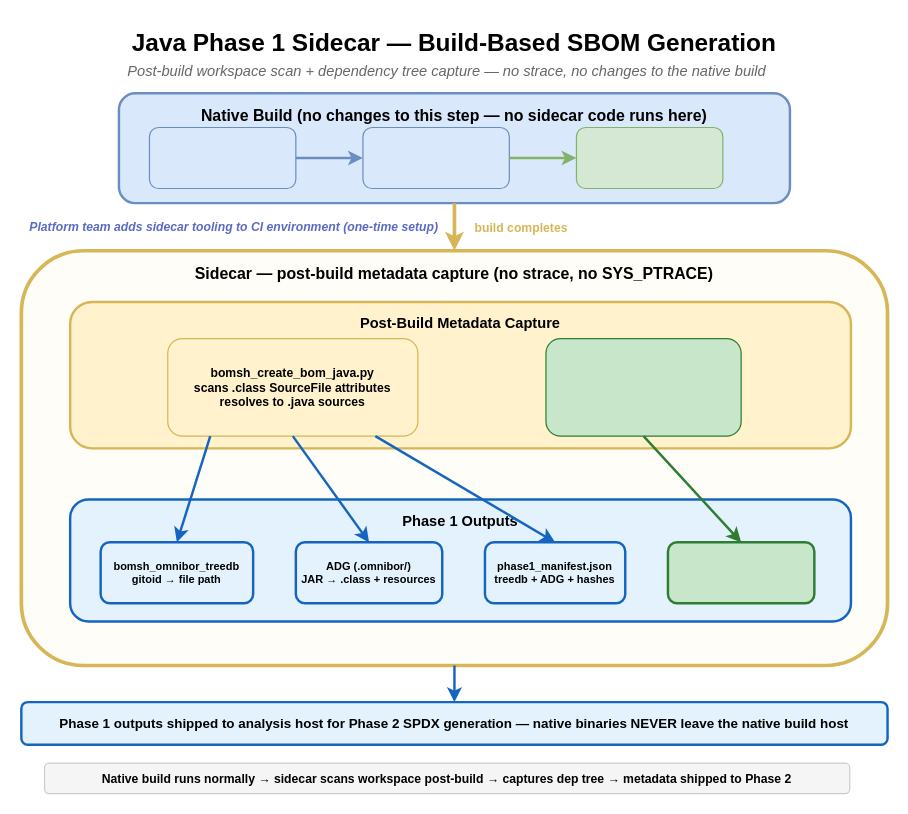
This 908x814 diagram has some shape labels left out. Each missing label, with the centre of its shape:
maven_deps.json full dep tree for Phase 2: (740,572)
mvn / gradle + native JDK: (435,157)
mvn dependency:tree full transitive dep graph per module: (643,386)
Native JARs (unchanged): (649,157)
Native Source + build files: (222,157)
